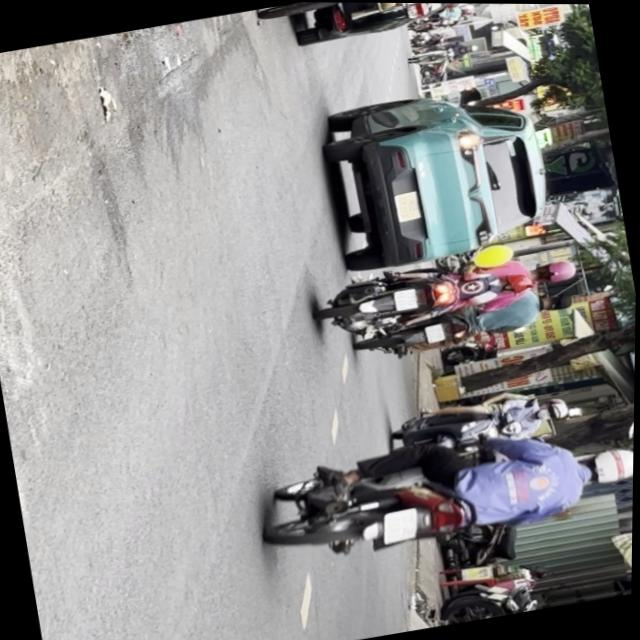helmet: (582, 442, 635, 486), (535, 256, 580, 285), (538, 398, 573, 421)
licenseplate: (256, 403, 635, 575), (313, 237, 583, 339), (352, 281, 584, 367), (386, 380, 578, 462)
motorcyclist: (539, 290, 577, 314)
nohelmet: (383, 507, 422, 542), (396, 288, 420, 309), (427, 323, 448, 342)
